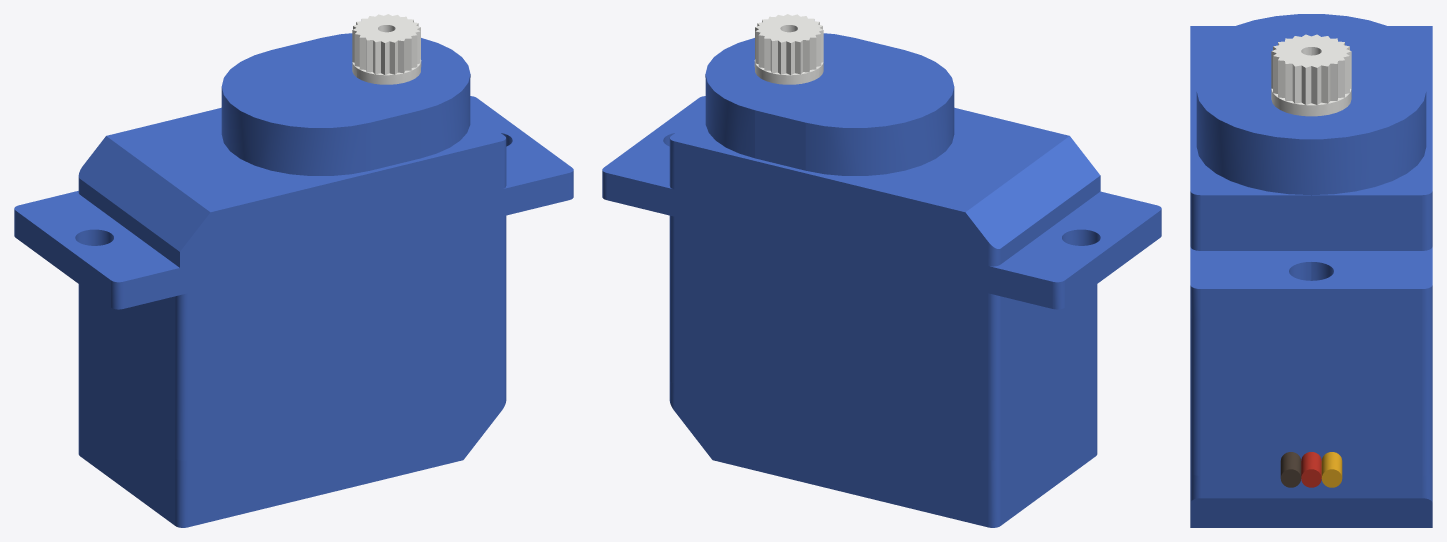
The model's file is ada-2201.glb.
3 views of the same model, side by side, from view 1: azimuth 30°, elevation 25°; view 2: azimuth 150°, elevation 25°; view 3: azimuth 270°, elevation 25° (orthographic). The views are drawn at different scales.
Parts seen in each view (by area): view 1: 0.08333333333333333_0.16666666666666666_0.6666666666666666_0, 0.9166666666666666_0.9166666666666666_0.9166666666666666_0.8; view 2: 0.08333333333333333_0.16666666666666666_0.6666666666666666_0, 0.9166666666666666_0.9166666666666666_0.9166666666666666_0.8; view 3: 0.08333333333333333_0.16666666666666666_0.6666666666666666_0, 0.9166666666666666_0.9166666666666666_0.9166666666666666_0.8, 0.08333333333333333_0.08333333333333333_0.08333333333333333_, 0.8333333333333334_0.4166666666666667_0_0, 0.5833333333333334_0_0_0.
Boxes of the visible parts, x1,y1,x2,y2 form: 0.08333333333333333_0.16666666666666666_0.6666666666666666_0: [14, 33, 573, 527]; 0.9166666666666666_0.9166666666666666_0.9166666666666666_0.8: [352, 14, 421, 84]; 0.08333333333333333_0.16666666666666666_0.6666666666666666_0: [602, 33, 1161, 527]; 0.9166666666666666_0.9166666666666666_0.9166666666666666_0.8: [754, 14, 823, 84]; 0.08333333333333333_0.16666666666666666_0.6666666666666666_0: [1190, 14, 1432, 527]; 0.9166666666666666_0.9166666666666666_0.9166666666666666_0.8: [1271, 34, 1351, 116]; 0.08333333333333333_0.08333333333333333_0.08333333333333333_: [1280, 452, 1301, 487]; 0.8333333333333334_0.4166666666666667_0_0: [1321, 452, 1342, 487]; 0.5833333333333334_0_0_0: [1301, 452, 1321, 487].
Size of the model in its own units: 3.01 by 2.49 by 1.18.
